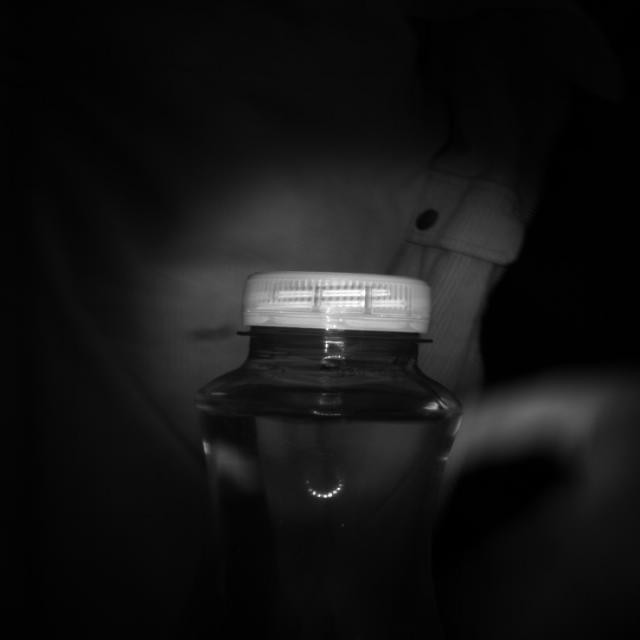Good: (240, 269, 434, 334)
